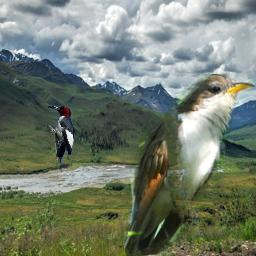Cuckoo: (124, 74, 255, 256)
Woodpecker: (48, 105, 74, 172)
